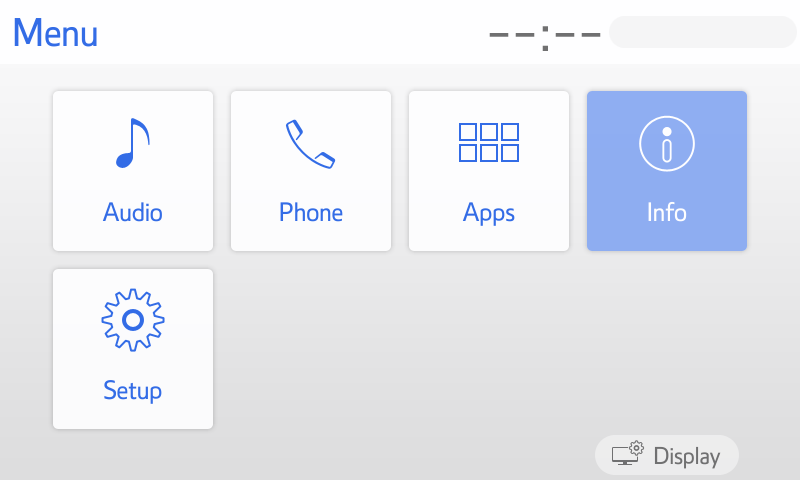touchPart: (48, 84, 217, 263), (46, 267, 223, 437), (584, 82, 754, 259), (406, 83, 570, 257), (227, 88, 392, 251), (590, 438, 746, 472)
untouchPart: (472, 14, 800, 60), (11, 13, 109, 55)
